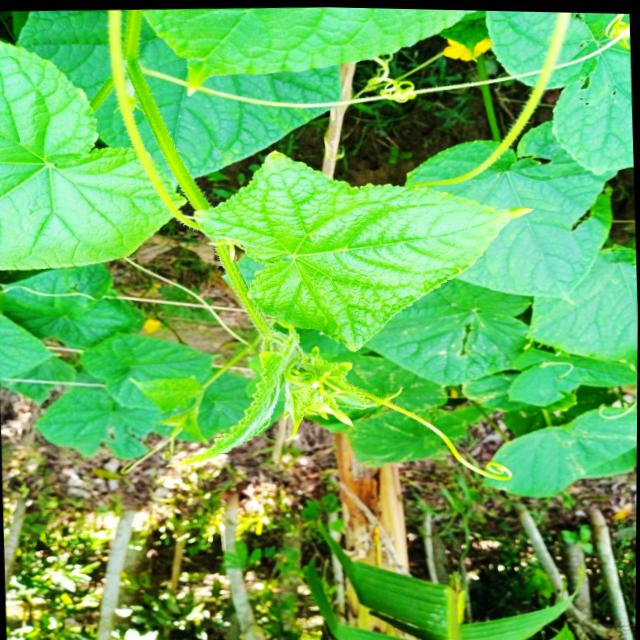Fresh-Leaf: (192, 149, 533, 352)
